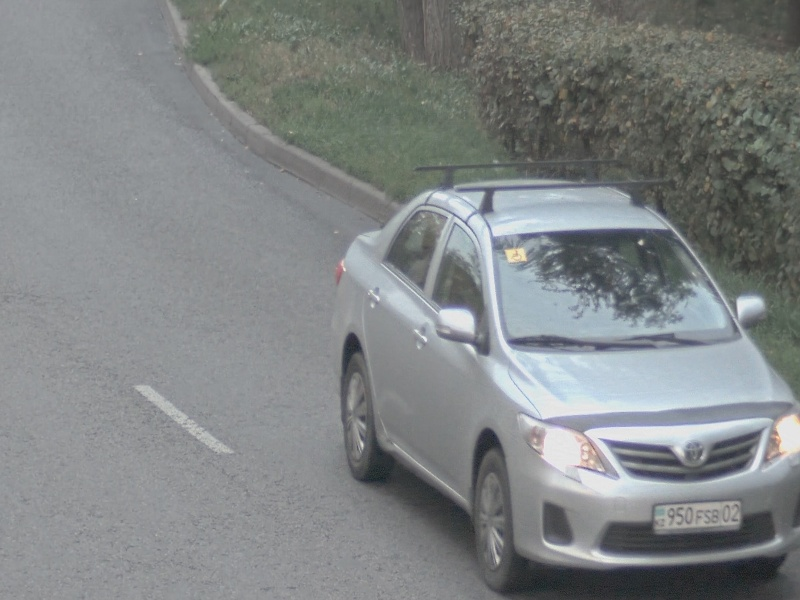plate: (650, 497, 745, 536)
